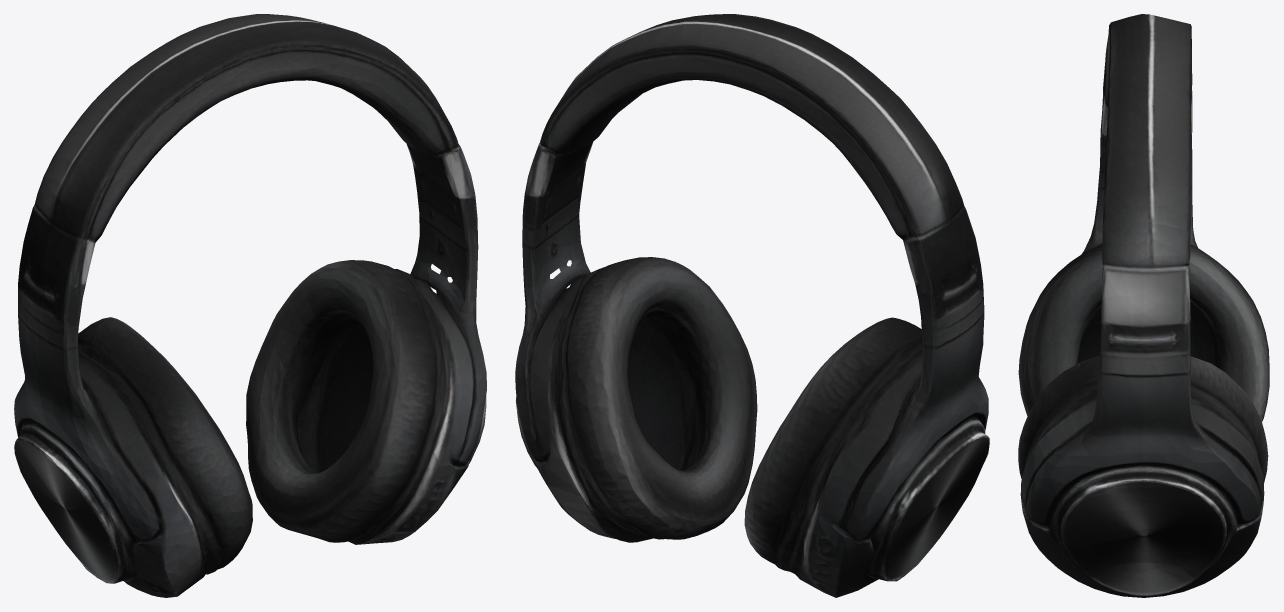
File: Headset.glb
3 views of the same model, side by side, from view 1: azimuth 30°, elevation 25°; view 2: azimuth 150°, elevation 25°; view 3: azimuth 270°, elevation 25° (orthographic). The views are drawn at different scales.
Visible parts, largest first — view 1: world; view 2: world; view 3: world.
Part boxes in pixels (x1,y1,x2,y2): world: [14, 14, 486, 597]; world: [515, 14, 989, 597]; world: [1018, 14, 1269, 597].
Size of the model in its own units: 0.681 by 0.8116 by 0.3649.
Materials: 1 (1 with a texture image).
